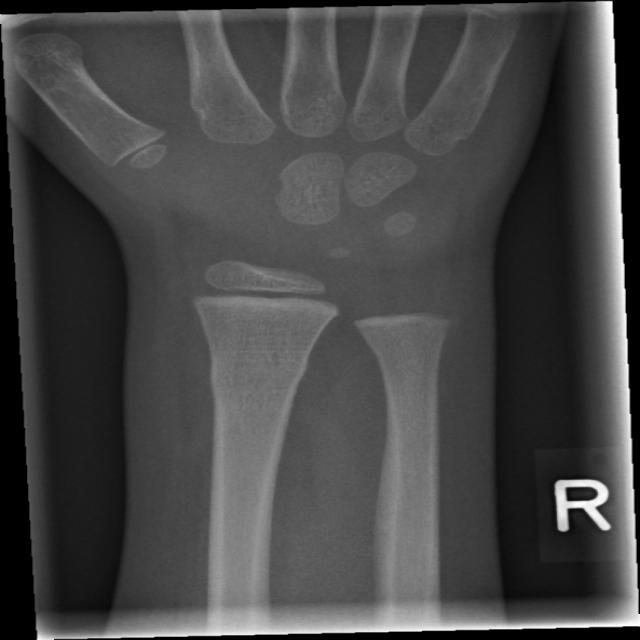radius fracture: (177, 322, 350, 420)
